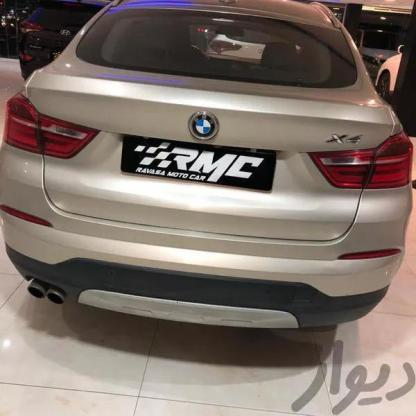Car: (0, 3, 416, 337), (0, 0, 95, 79)
